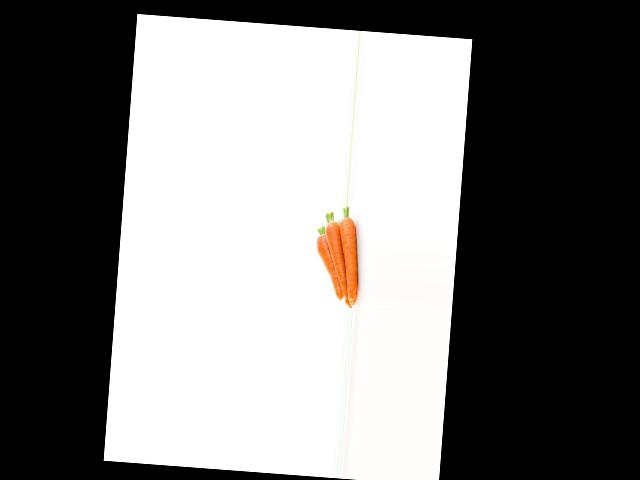carrot: (336, 211, 362, 305)
